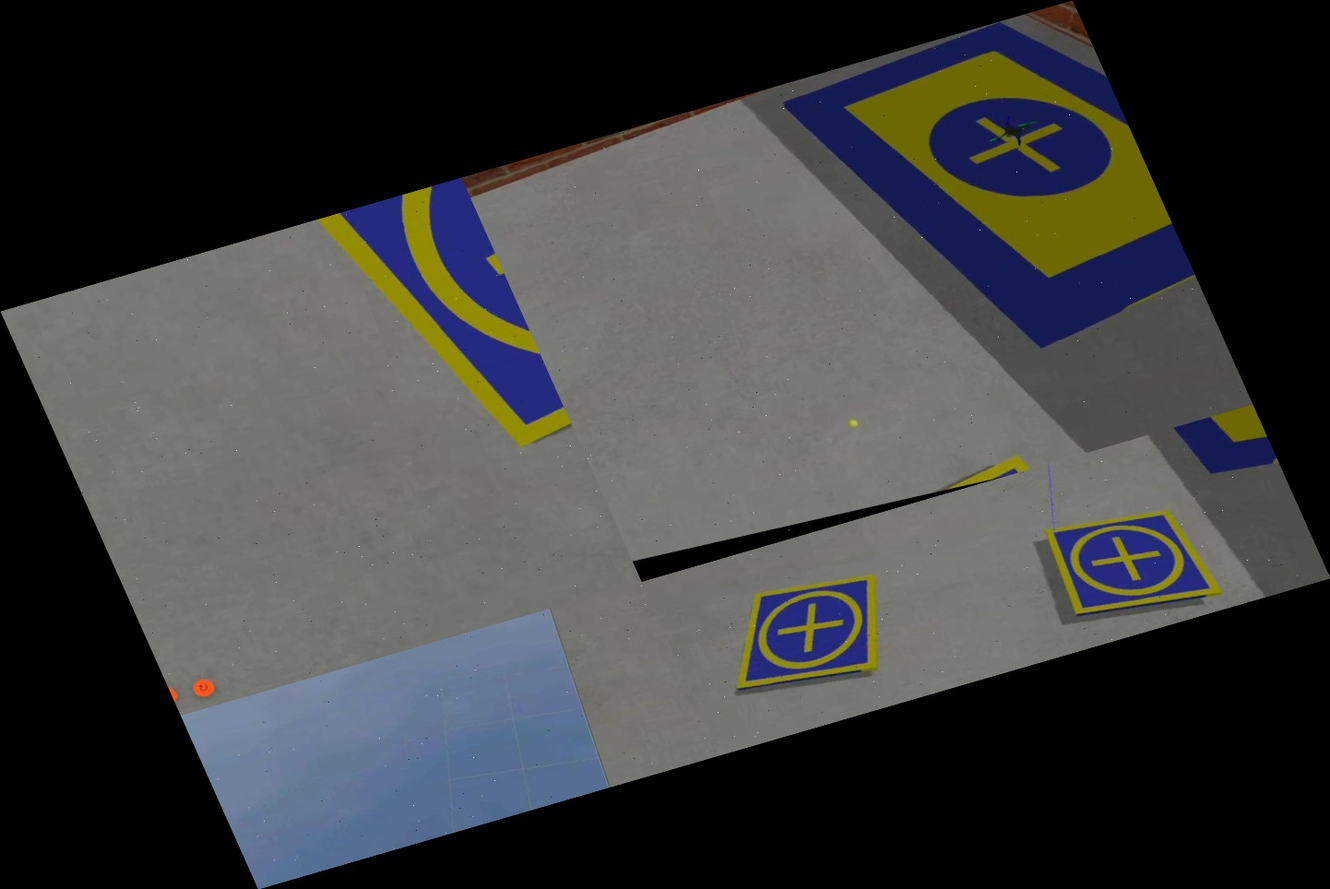large_base: (749, 0, 1214, 411)
small_base: (260, 177, 586, 515), (702, 560, 914, 708), (1036, 492, 1231, 637)
